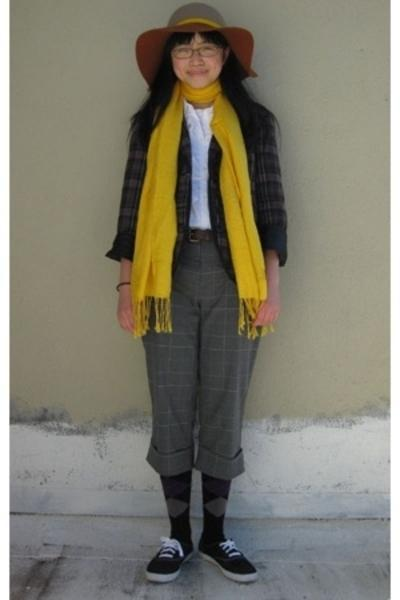hat: (136, 0, 251, 83)
jacket: (105, 115, 287, 282)
pants: (141, 242, 259, 490)
shirt: (185, 108, 212, 229)
shoe: (147, 540, 251, 573)
